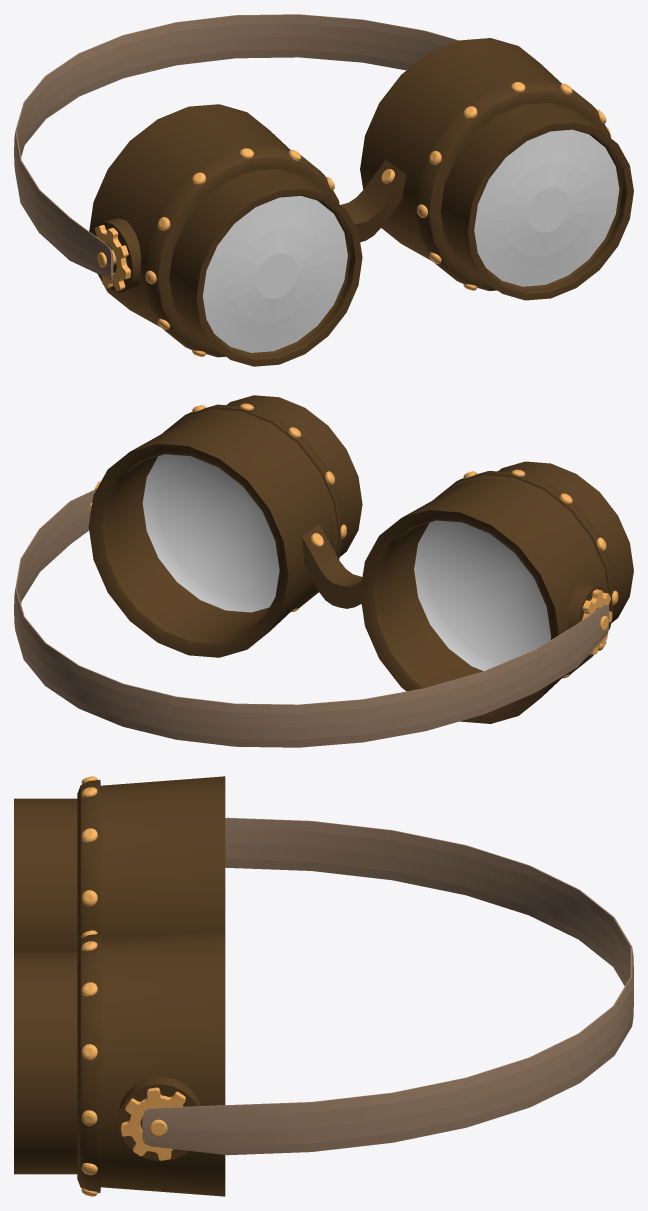
File: Goggles.fbx
3 renders of one model, top to bottom at view 1: azimuth 30°, elevation 25°; view 2: azimuth 150°, elevation 25°; view 3: azimuth 270°, elevation 25°, orthographic. The views are drawn at different scales.
Parts seen in each view (by area): view 1: Goggles, Belt, Connection; view 2: Goggles, Belt, Connection; view 3: Goggles, Belt.
Part boxes in pixels (box(x1,y1,x2,y2)): Goggles: box(89, 38, 633, 366); Belt: box(14, 14, 459, 280); Connection: box(340, 160, 406, 242); Goggles: box(88, 395, 633, 723); Belt: box(14, 489, 609, 747); Connection: box(302, 524, 362, 608); Goggles: box(14, 776, 225, 1196); Belt: box(142, 817, 633, 1155).
Size of the model in its own units: 13.47 by 5.28 by 12.21.
